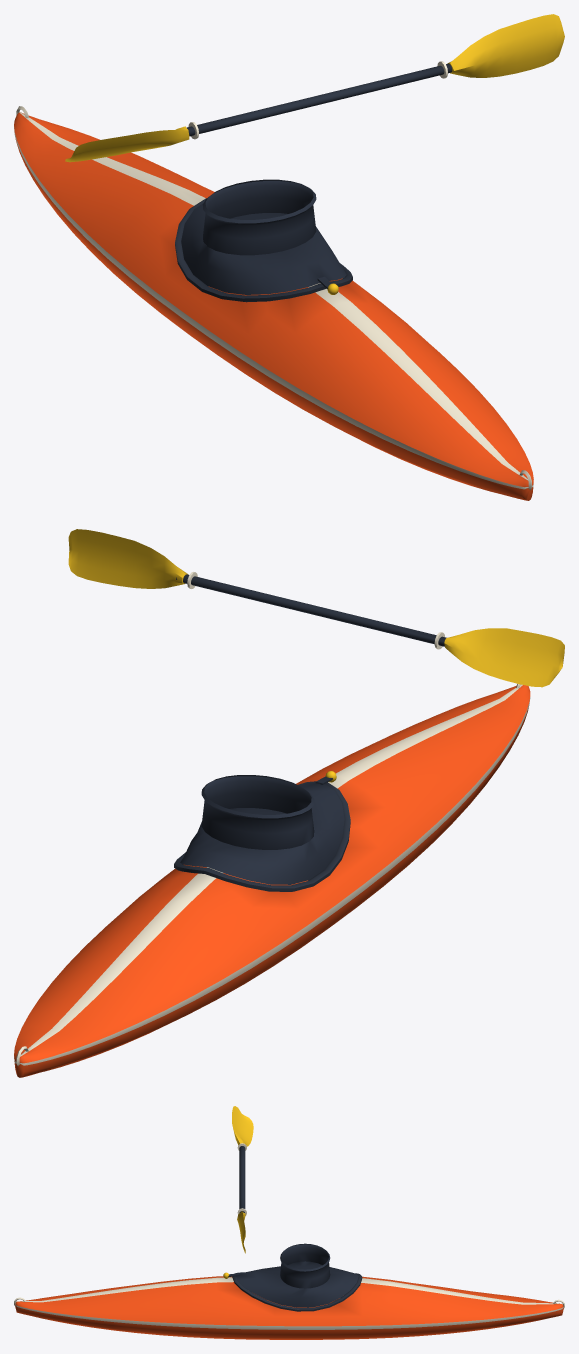
Rendered from kayak.glb.
3 renders of one model, top to bottom at view 1: azimuth 30°, elevation 25°; view 2: azimuth 150°, elevation 25°; view 3: azimuth 270°, elevation 25°, orthographic. The views are drawn at different scales.
Visible parts, largest first — view 1: Kayak Hull paint, Kayak Neoprene, Kayak paddle Blade paint, Kayak paddle Carbon, Kayak Carbon; view 2: Kayak Hull paint, Kayak Neoprene, Kayak paddle Blade paint, Kayak paddle Carbon, Kayak Carbon; view 3: Kayak Hull paint, Kayak Neoprene, Kayak paddle Blade paint, Kayak Carbon, Kayak paddle Carbon.
Part boxes in pixels (x1,y1,x2,y2): Kayak Hull paint: (14, 112, 533, 500); Kayak Neoprene: (181, 179, 346, 294); Kayak paddle Blade paint: (65, 14, 564, 162); Kayak paddle Carbon: (187, 63, 451, 136); Kayak Carbon: (175, 198, 352, 302); Kayak Hull paint: (14, 684, 530, 1077); Kayak Neoprene: (180, 775, 344, 884); Kayak paddle Blade paint: (68, 529, 564, 687); Kayak paddle Carbon: (176, 574, 446, 646); Kayak Carbon: (174, 781, 350, 891); Kayak Hull paint: (15, 1276, 563, 1339); Kayak Neoprene: (228, 1243, 358, 1307); Kayak paddle Blade paint: (232, 1106, 253, 1253); Kayak Carbon: (232, 1272, 362, 1311); Kayak paddle Carbon: (239, 1146, 245, 1212).
Bounding box in the file's own units: 1.95 × 1.15 × 3.51.
